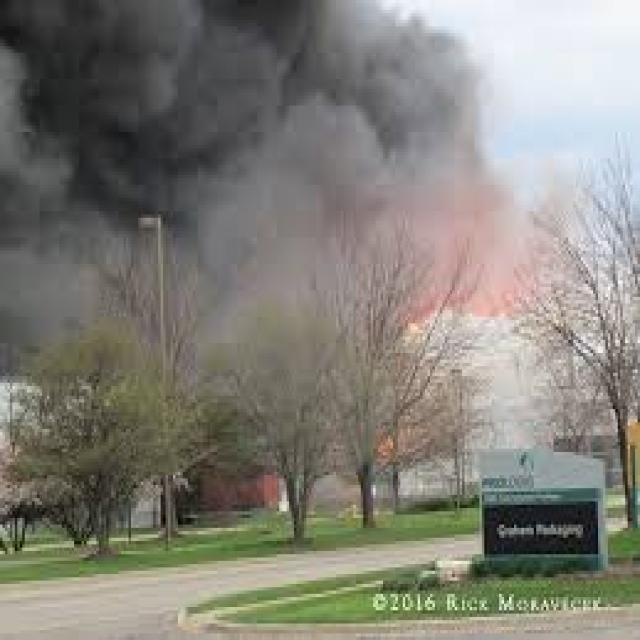Fire: (456, 280, 532, 317), (404, 304, 452, 334)
Smoke: (0, 0, 275, 225), (270, 0, 488, 214), (0, 226, 83, 326)
